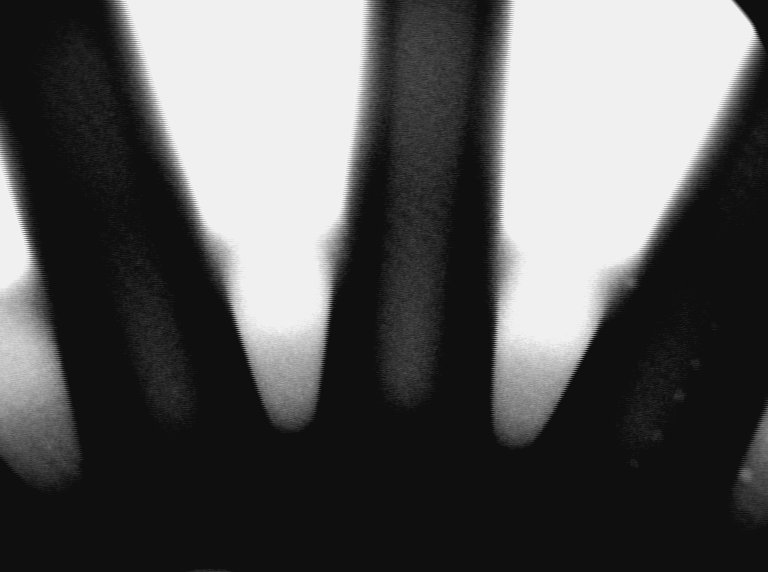defect: (623, 272, 644, 294)
